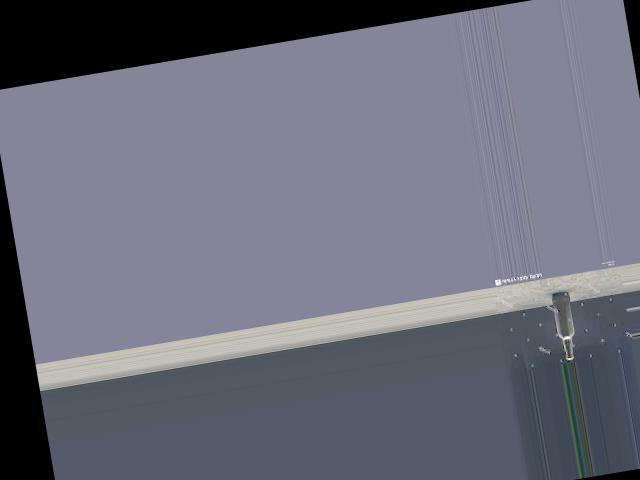beer: (552, 290, 579, 360)
